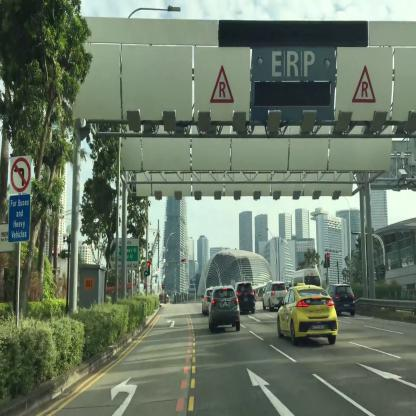red_traffic_light: (147, 261, 150, 274), (182, 258, 186, 261)
